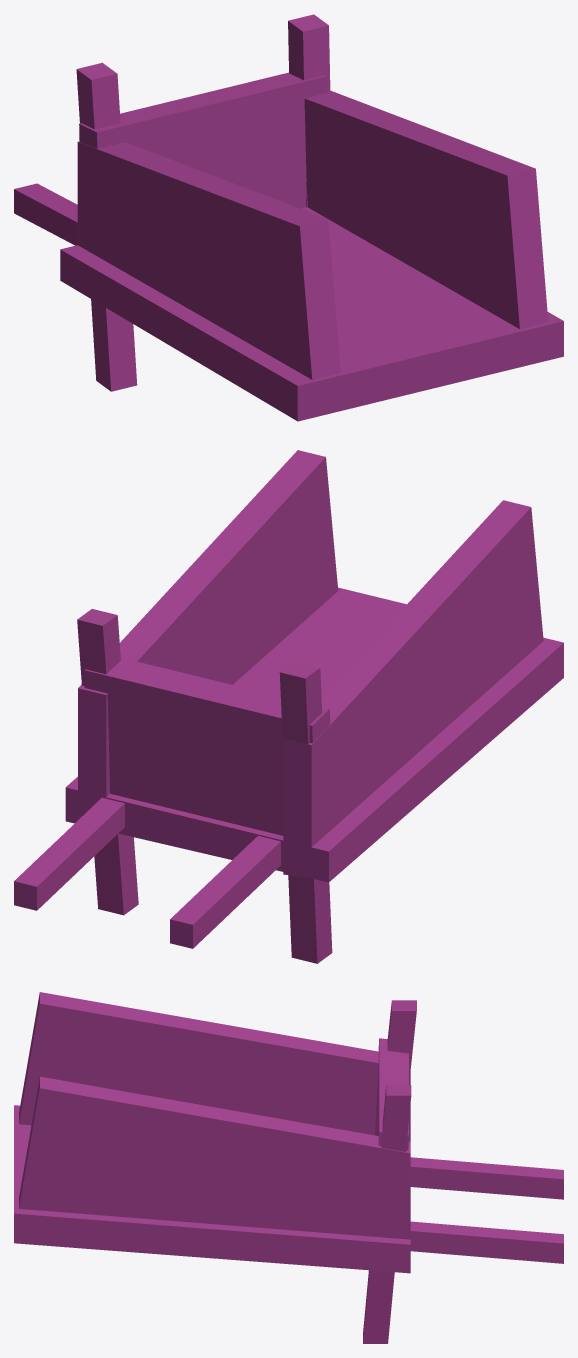
File: SM_Veh_Cart_02_Collision.fbx
The picture shows the model from 3 angles, top to bottom: view 1: azimuth 30°, elevation 25°; view 2: azimuth 150°, elevation 25°; view 3: azimuth 270°, elevation 25°; orthographic projection. The views are drawn at different scales.
Visible parts, largest first — view 1: SM_Veh_Cart_02_Collision; view 2: SM_Veh_Cart_02_Collision; view 3: SM_Veh_Cart_02_Collision.
Part boxes in pixels (x1,y1,x2,y2): SM_Veh_Cart_02_Collision: (14,14,563,421); SM_Veh_Cart_02_Collision: (14,450,563,963); SM_Veh_Cart_02_Collision: (14,992,563,1343).
Size of the model in its own units: 143 by 159 by 306.
